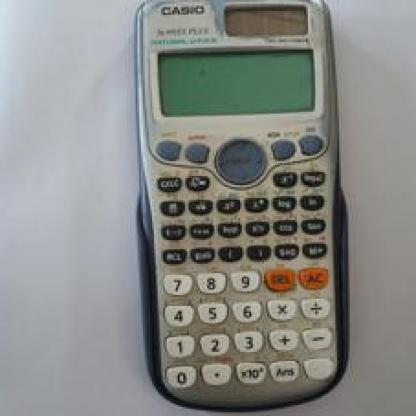calculator: (126, 0, 354, 414)
